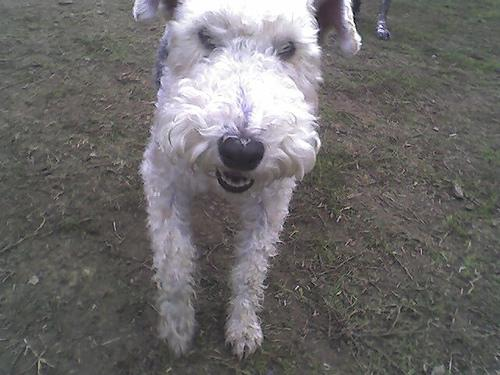wire-haired_fox_terrier: (130, 2, 361, 363)
